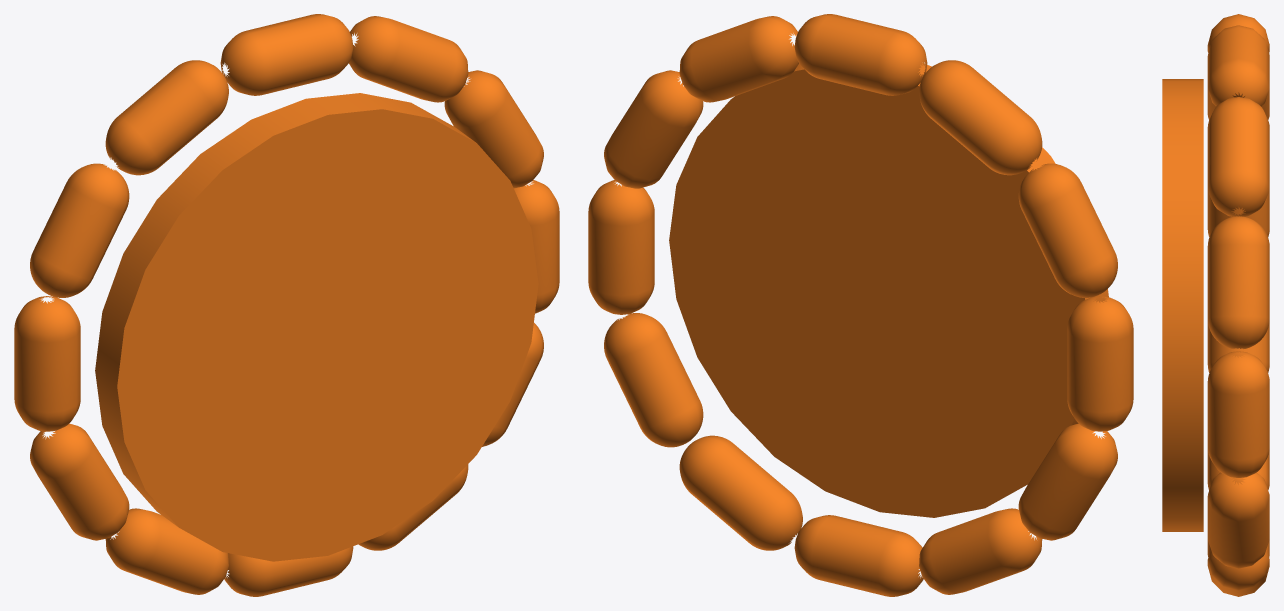
3 renders of one model, left to right at view 1: azimuth 30°, elevation 25°; view 2: azimuth 150°, elevation 25°; view 3: azimuth 270°, elevation 25°, orthographic. The views are drawn at different scales.
Visible parts, largest first — view 1: gripper_frame; view 2: gripper_frame; view 3: gripper_frame.
Part boxes in pixels (x1,y1,x2,y2): gripper_frame: (14,14,559,596); gripper_frame: (588,14,1133,596); gripper_frame: (1162,14,1269,596).
Bounding box in the file's own units: 0.028 × 0.028 × 0.0052.
